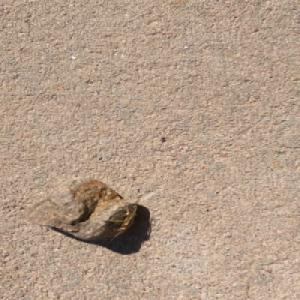Rock: (20, 175, 140, 242)
